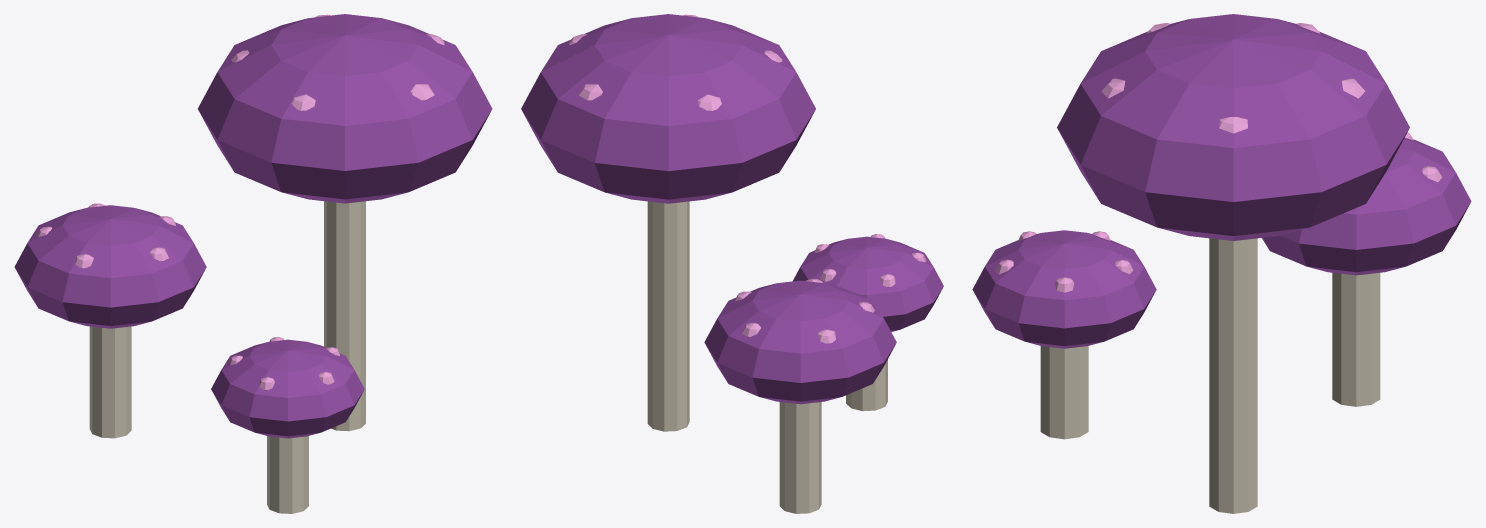
The model's file is dark_mushrooms.glb.
3 renders of one model, left to right at view 1: azimuth 30°, elevation 25°; view 2: azimuth 150°, elevation 25°; view 3: azimuth 270°, elevation 25°, orthographic. The views are drawn at different scales.
Size of the model in its own units: 0.71 by 0.6665 by 0.65.
